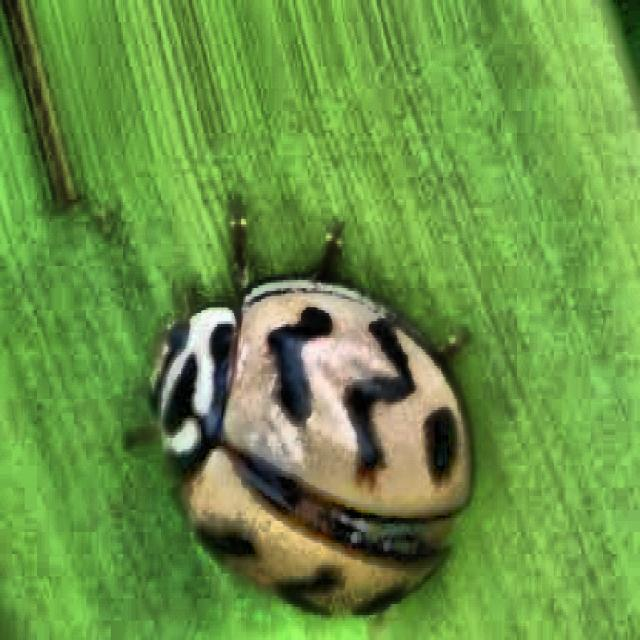Asian-Lady-beetle: (122, 199, 529, 640)
